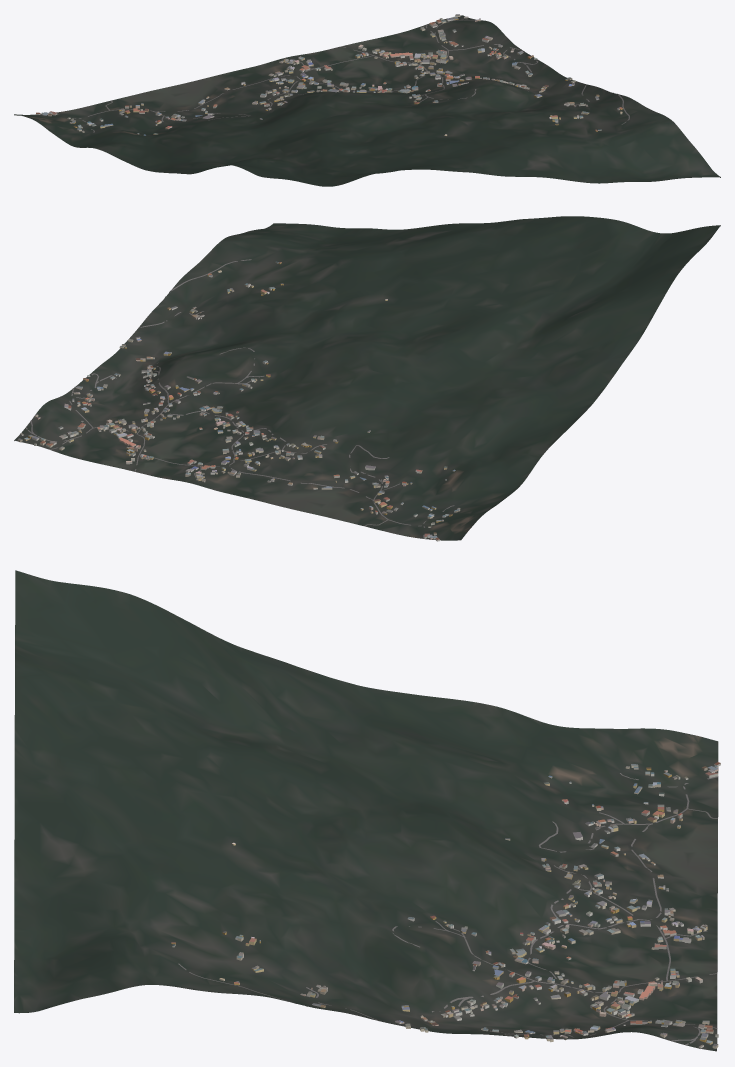
3 renders of one model, top to bottom at view 1: azimuth 30°, elevation 25°; view 2: azimuth 150°, elevation 25°; view 3: azimuth 270°, elevation 25°, orthographic. The views are drawn at different scales.
Parts seen in each view (by area): view 1: ground, buildings, roads; view 2: ground, buildings, roads; view 3: ground, buildings, roads.
Boxes of the visible parts, x1,y1,x2,y2 form: ground: (14,15,720,186); buildings: (35,14,623,135); roads: (57,19,629,132); ground: (14,216,720,540); buildings: (17,261,460,541); roads: (25,259,454,538); ground: (14,570,718,1051); buildings: (171,762,720,1048); roads: (178,773,718,1045).
Bounding box in the file's own units: 1405 × 416 × 1410.
